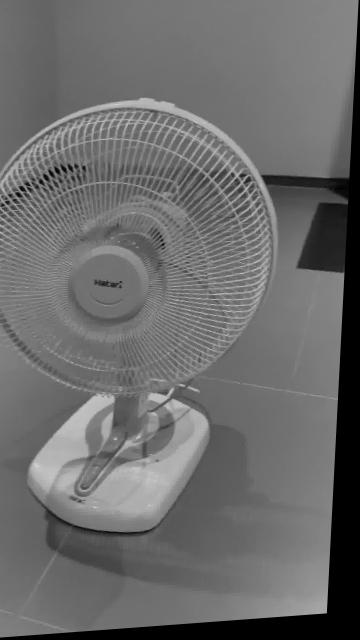Fan: (0, 102, 281, 539)
